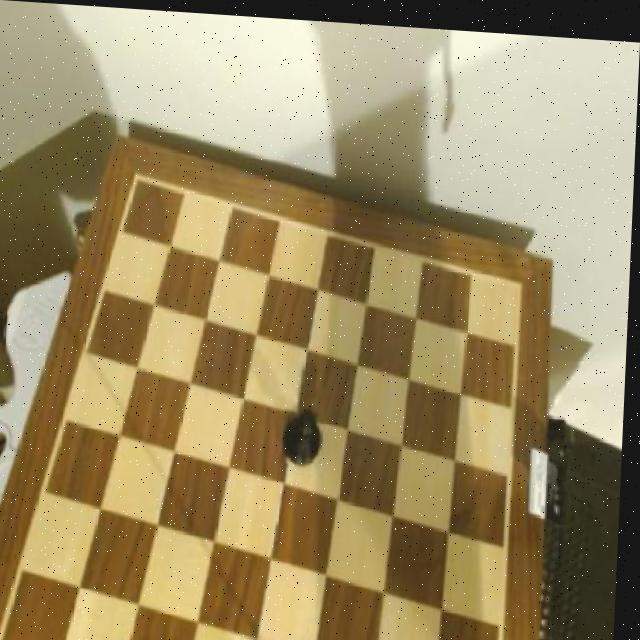black-knight: (285, 398, 328, 463)
